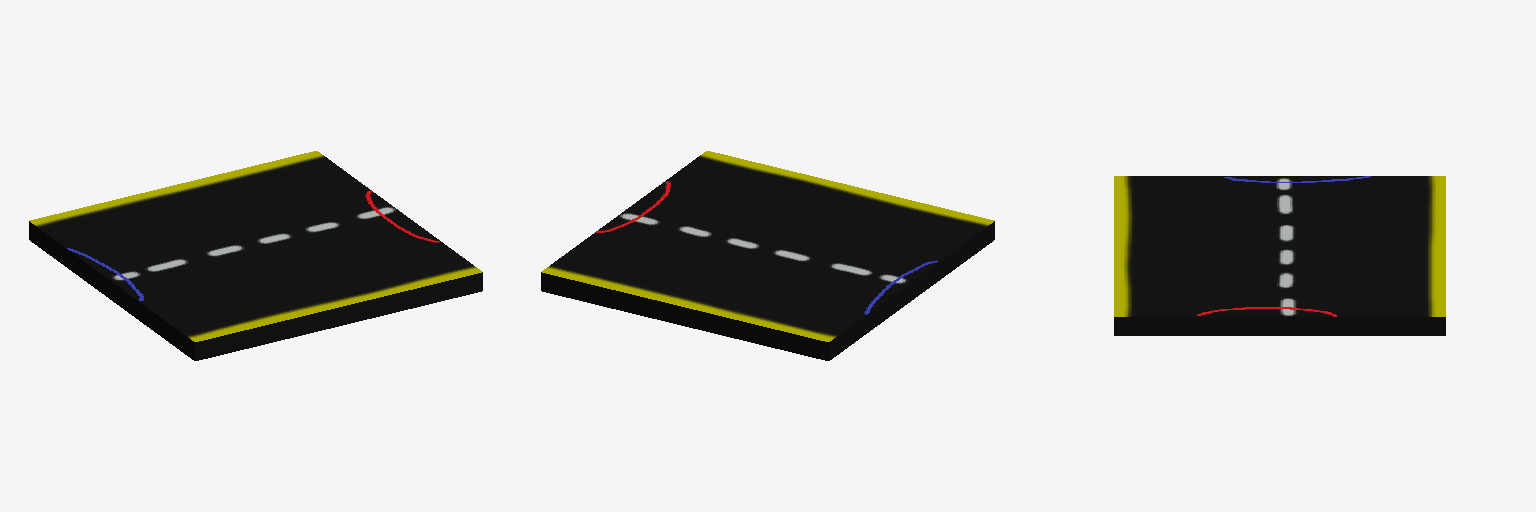
The picture shows the model from 3 angles: view 1: azimuth 30°, elevation 25°; view 2: azimuth 150°, elevation 25°; view 3: azimuth 270°, elevation 25°; orthographic projection.
Visible parts, largest first — view 1: Cube; view 2: Cube; view 3: Cube.
Part boxes in pixels (x1,y1,x2,y2): Cube: (29,151,482,360); Cube: (541,151,994,360); Cube: (1114,176,1445,335).
Bounding box in the file's own units: 1 × 0.063 × 1.
1 materials, 1 textured.